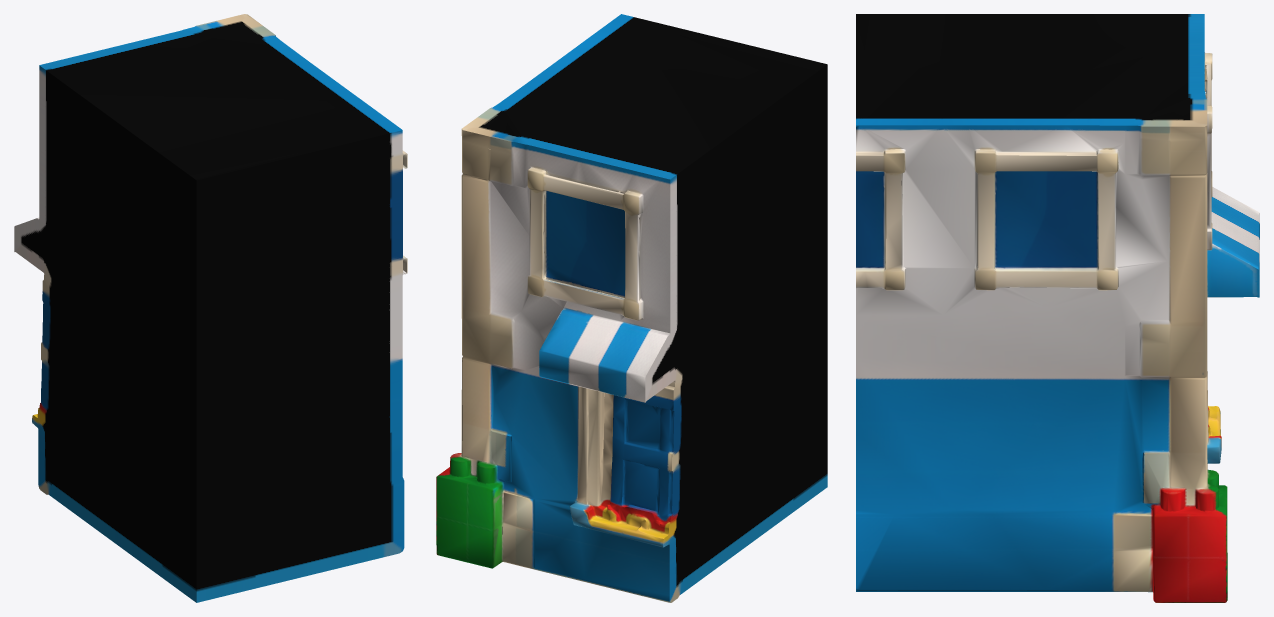
The model's file is 4-ground-floor-back-right.fbx.
3 renders of one model, left to right at view 1: azimuth 30°, elevation 25°; view 2: azimuth 150°, elevation 25°; view 3: azimuth 270°, elevation 25°, orthographic. The views are drawn at different scales.
Visible parts, largest first — view 1: ground-floor-back-right; view 2: ground-floor-back-right; view 3: ground-floor-back-right.
Boxes of the visible parts, bbox=[...] form: ground-floor-back-right: bbox=[14, 14, 407, 602]; ground-floor-back-right: bbox=[436, 14, 827, 602]; ground-floor-back-right: bbox=[856, 14, 1259, 602].
Size of the model in its own units: 4734 by 8555 by 6664.
Materials: 1 (1 with a texture image).
